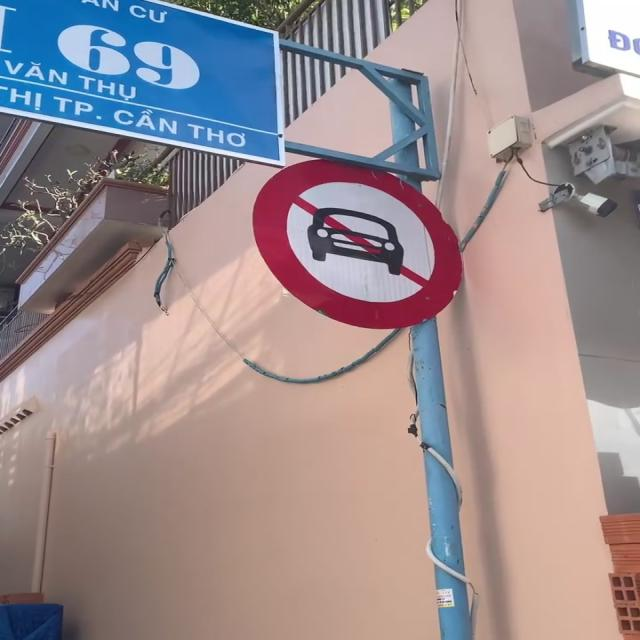Cam_O_To: (253, 153, 469, 330)
